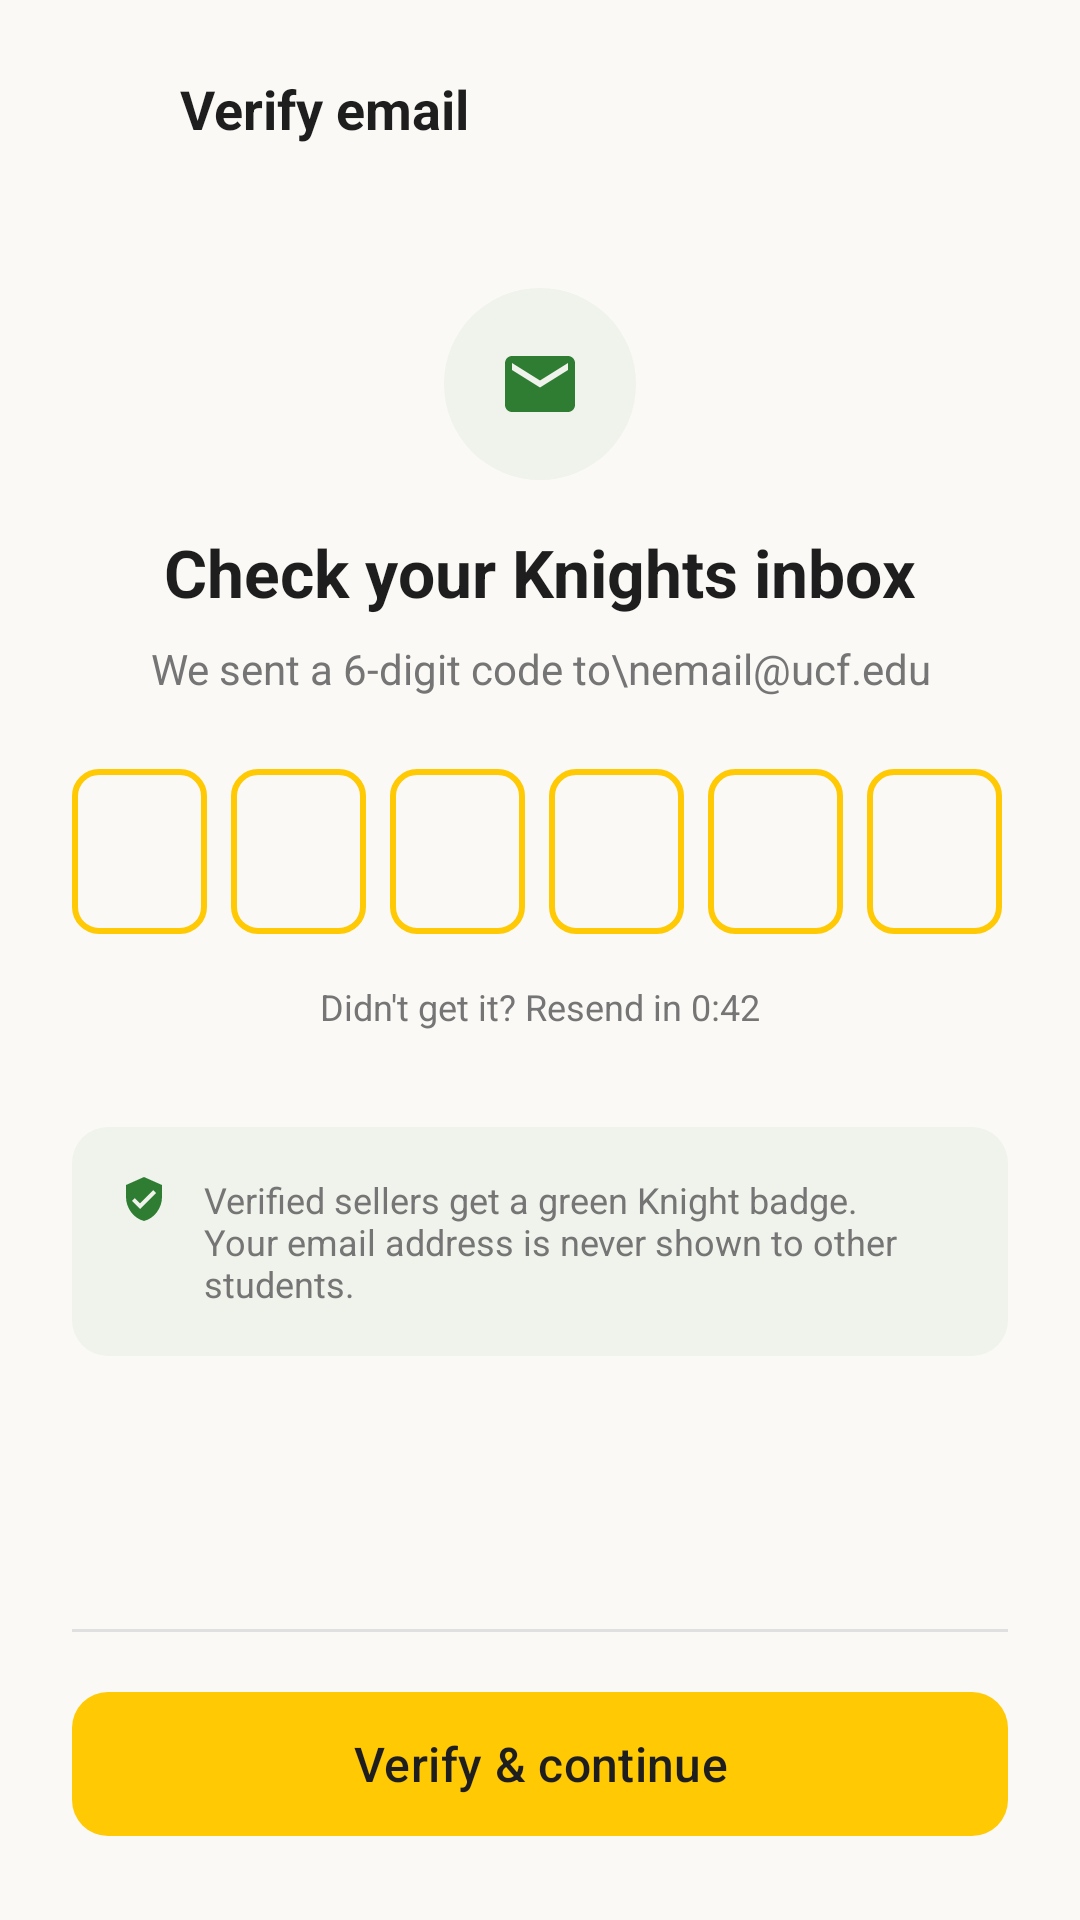

Icons on this 1080 x 1920 Android screen, each with the point to tap as (x=x, y=y):
email: (x=540, y=384)
